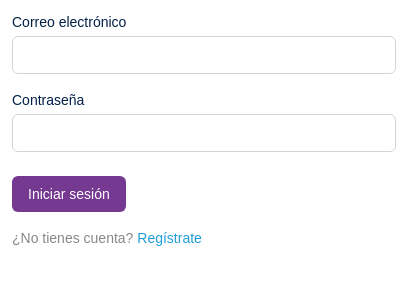
LoginForm › shows an error message and does not navigate when login fails
In the field labelled "Correo electrónico": (204, 55) x1=12 y1=36 x2=396 y2=74, type "a@example.com"
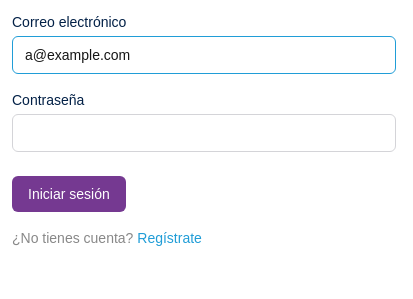
In the password field labelled "Contraseña": (204, 133) x1=12 y1=114 x2=396 y2=152, type "wrong"
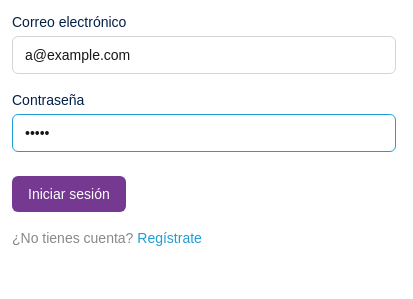
Click the button "Iniciar sesión": (69, 194) x1=12 y1=176 x2=126 y2=212
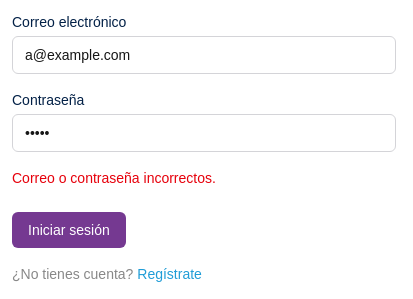
expect the message reads "Correo o contraseña incorrectos.": met, box x1=12 y1=170 x2=216 y2=186
